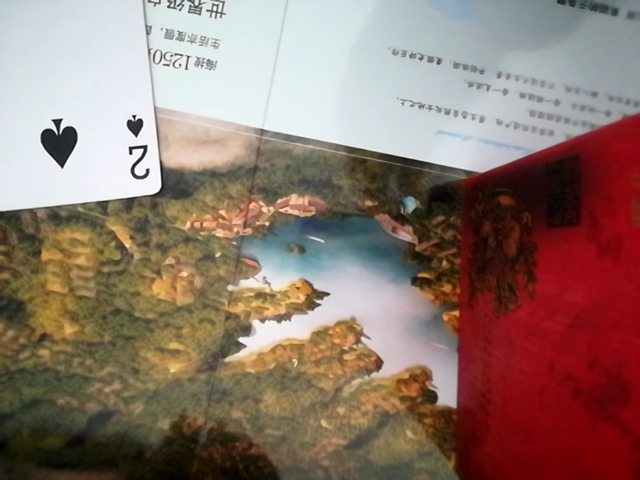ht 2: (3, 0, 171, 218)
